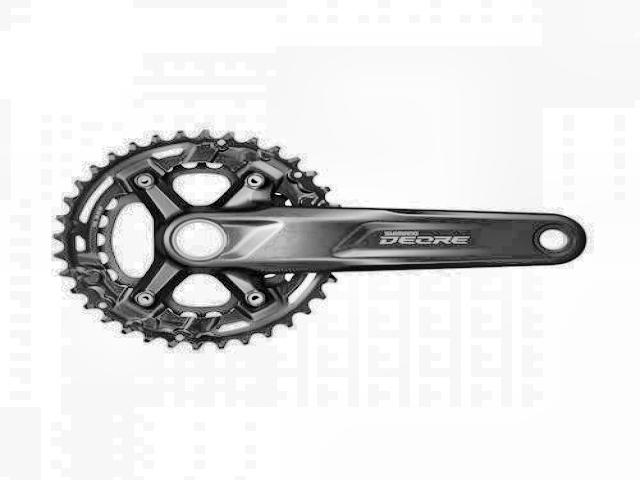cranks_set: (48, 128, 590, 355)
